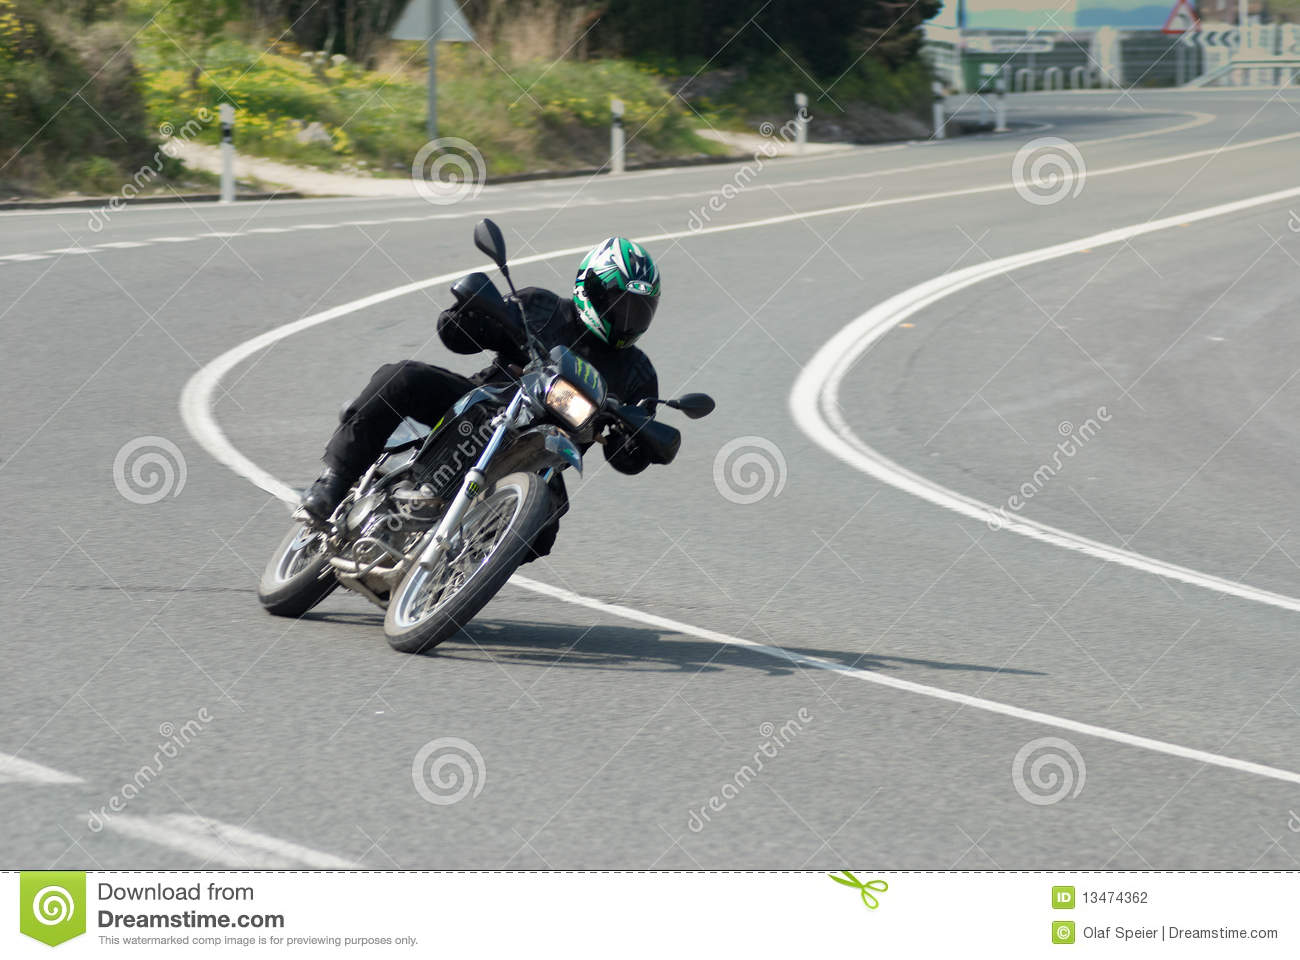helmet: (577, 233, 658, 356)
